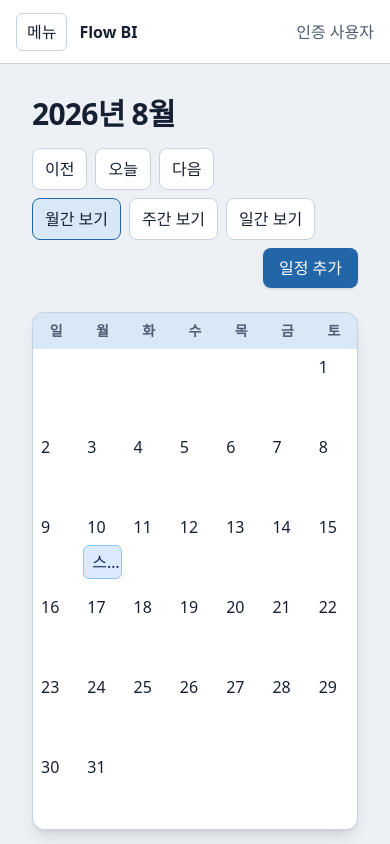
Test: calendar schedule management › keeps the management flow usable in the mobile overlay
Click the button named "2026년 8월 10일 일정 보기".
click(96, 527)  # box [83,513,109,541]
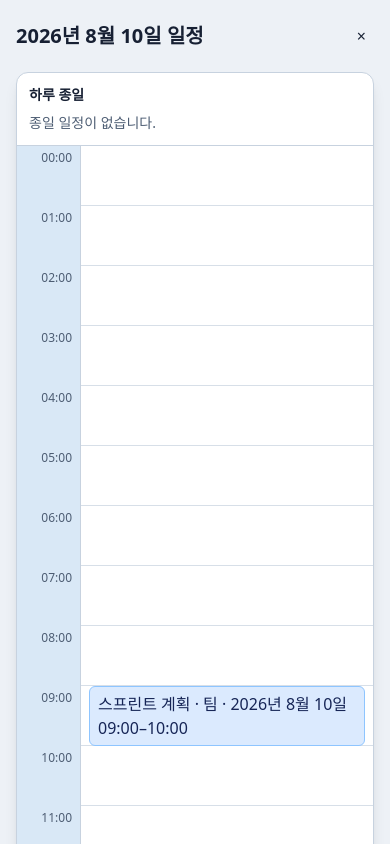
Click the button "스프린트 계획 · 팀 · 2026년 8월 10일 09:00–10:00".
click(227, 716)  # box [89,686,365,746]
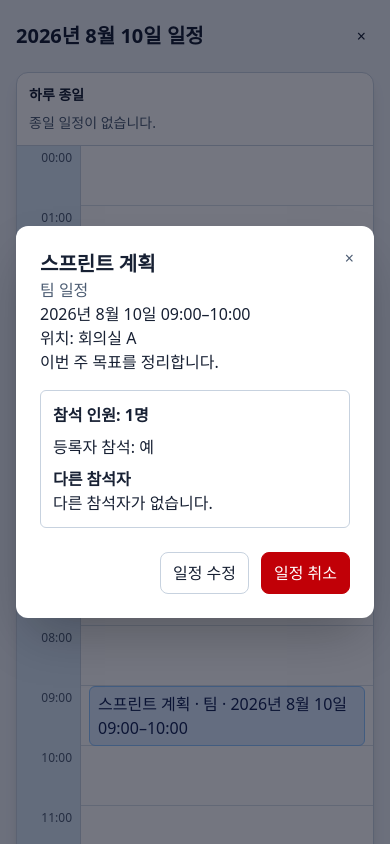
Expected: the heading "스프린트 계획" is shown, [40,250,156,277]
Expected: the button "일정 수정" is shown, [160,552,249,594]
